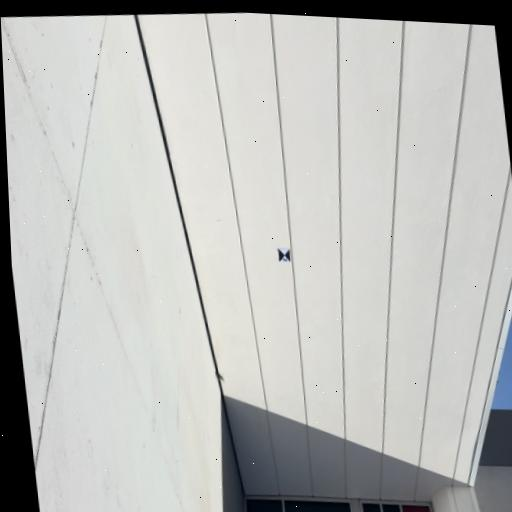target7: (278, 246, 291, 263)
